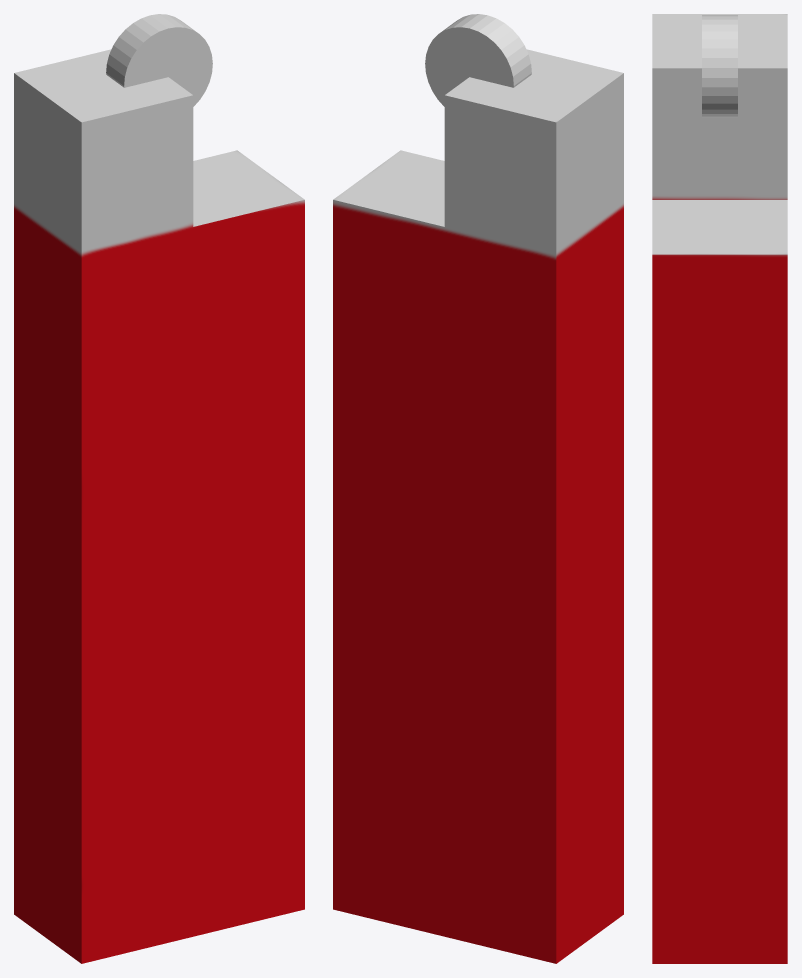
The model's file is Lighter.fbx.
3 views of the same model, side by side, from view 1: azimuth 30°, elevation 25°; view 2: azimuth 150°, elevation 25°; view 3: azimuth 270°, elevation 25° (orthographic).
Visible parts, largest first — view 1: Cube; view 2: Cube; view 3: Cube.
Part boxes in pixels (x1,y1,x2,y2): Cube: (14,14,304,963); Cube: (333,14,623,963); Cube: (652,14,787,963).
Bounding box in the file's own units: 0.6585 × 2.51 × 0.3451.
